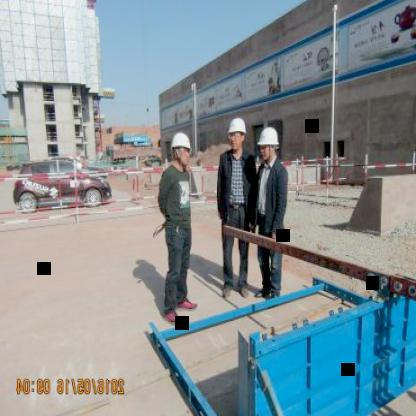helmet: (166, 128, 194, 168), (256, 125, 280, 166), (226, 115, 249, 150)
